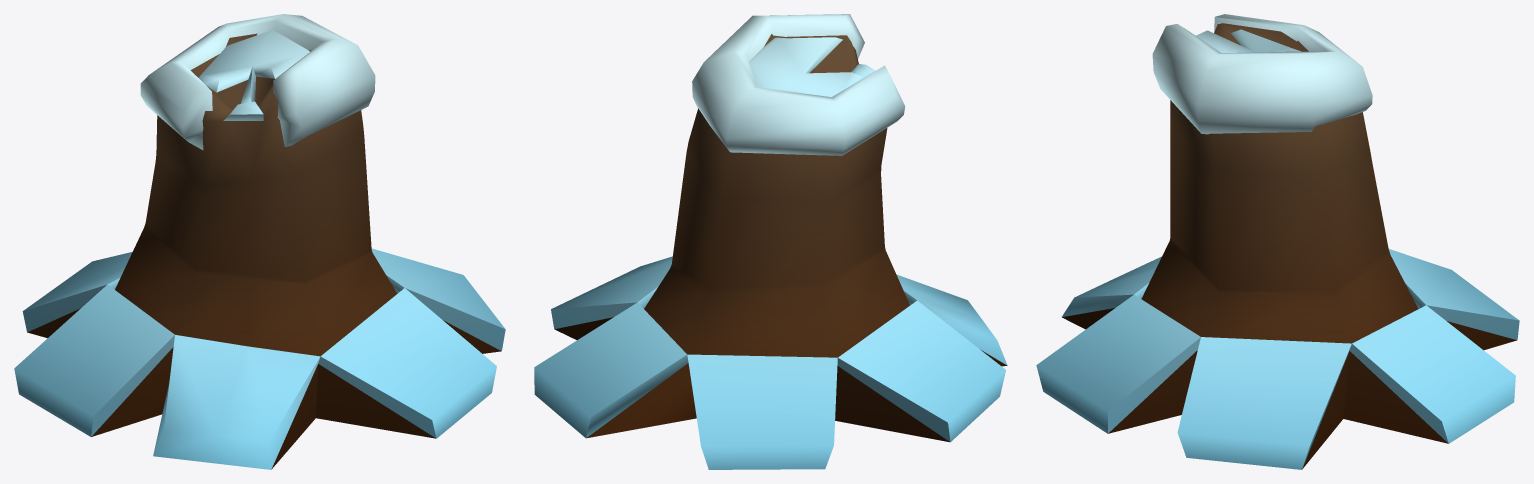
File: Tree_Cut_0_1.fbx
3 renders of one model, left to right at view 1: azimuth 30°, elevation 25°; view 2: azimuth 150°, elevation 25°; view 3: azimuth 270°, elevation 25°, orthographic. The views are drawn at different scales.
Visible parts, largest first — view 1: Plane.034; view 2: Plane.034; view 3: Plane.034.
Boxes of the visible parts, left/top/right/bottom form: Plane.034: left=14, top=14, right=505, bottom=469; Plane.034: left=534, top=14, right=1007, bottom=469; Plane.034: left=1036, top=14, right=1519, bottom=469.
Size of the model in its own units: 374 by 280 by 370.
